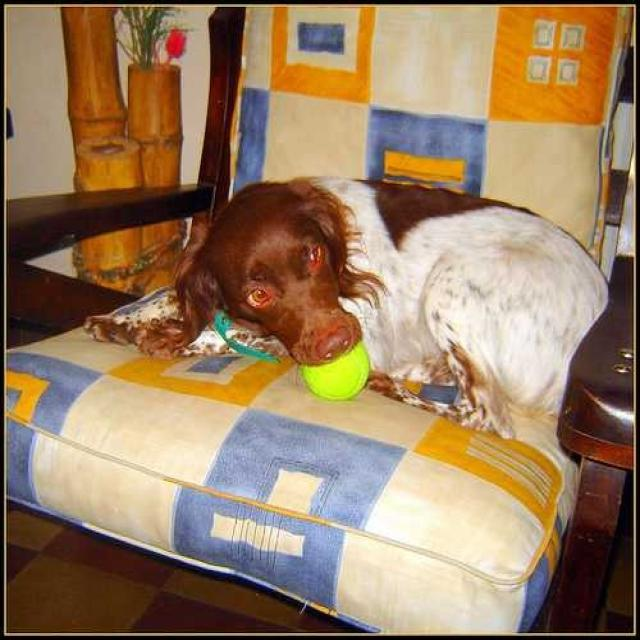Tennis_Ball: (302, 343, 366, 403)
